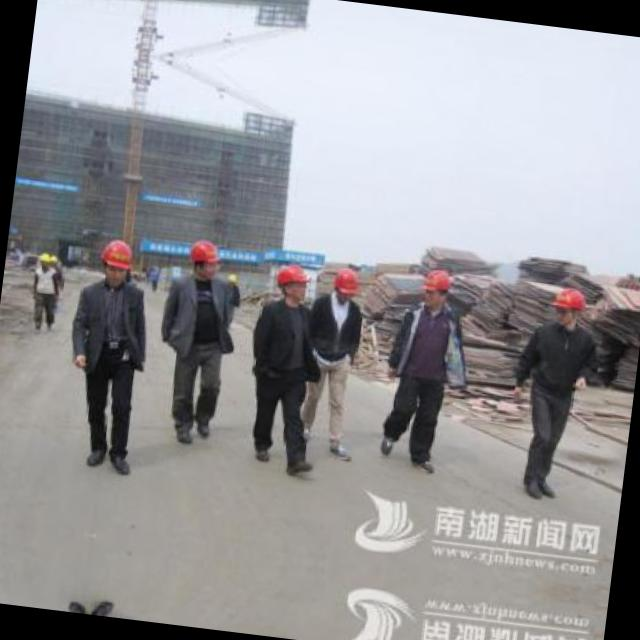helmet: (93, 236, 136, 288), (272, 262, 312, 306), (328, 264, 367, 308), (548, 284, 586, 326), (187, 236, 220, 282), (420, 264, 454, 308)
